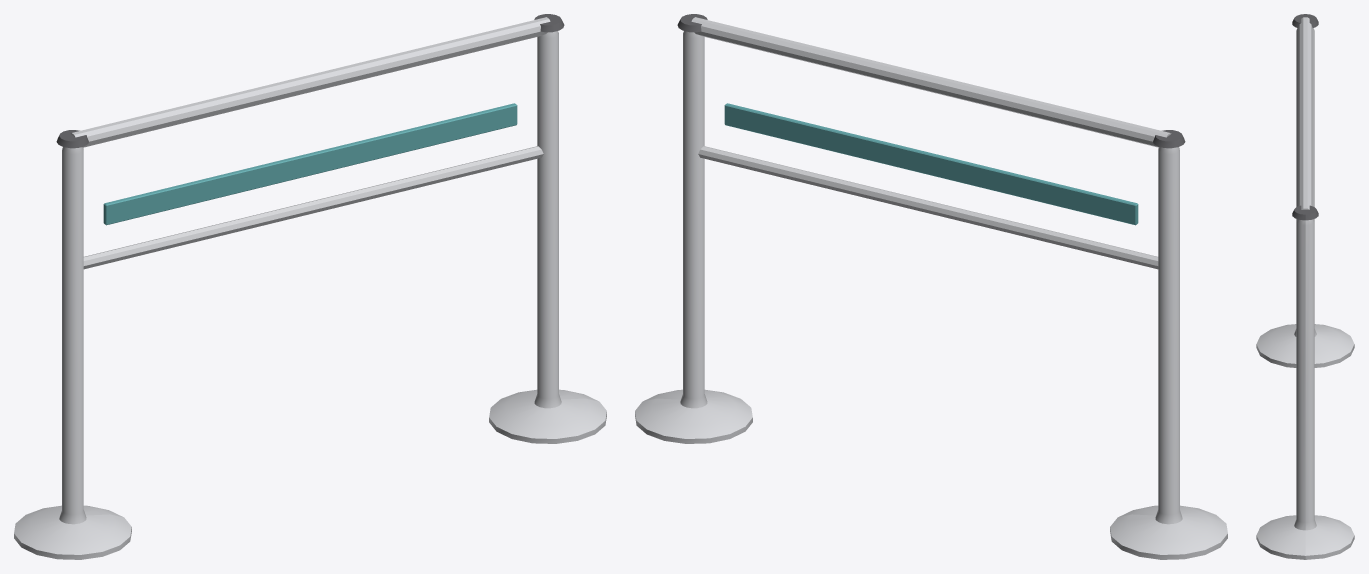
Rendered from fast-food-and-drive-thru-queue-rail-end-module-a784c84d__16209.glb.
3 views of the same model, side by side, from view 1: azimuth 30°, elevation 25°; view 2: azimuth 150°, elevation 25°; view 3: azimuth 270°, elevation 25° (orthographic). The views are drawn at different scales.
Parts seen in each view (by area): view 1: queue-rail-end-module; view 2: queue-rail-end-module; view 3: queue-rail-end-module.
Boxes of the visible parts, x1,y1,x2,y2 form: queue-rail-end-module: [14, 14, 606, 559]; queue-rail-end-module: [635, 14, 1227, 559]; queue-rail-end-module: [1256, 14, 1354, 559].
Bounding box in the file's own units: 1.46 × 0.968 × 0.26.
